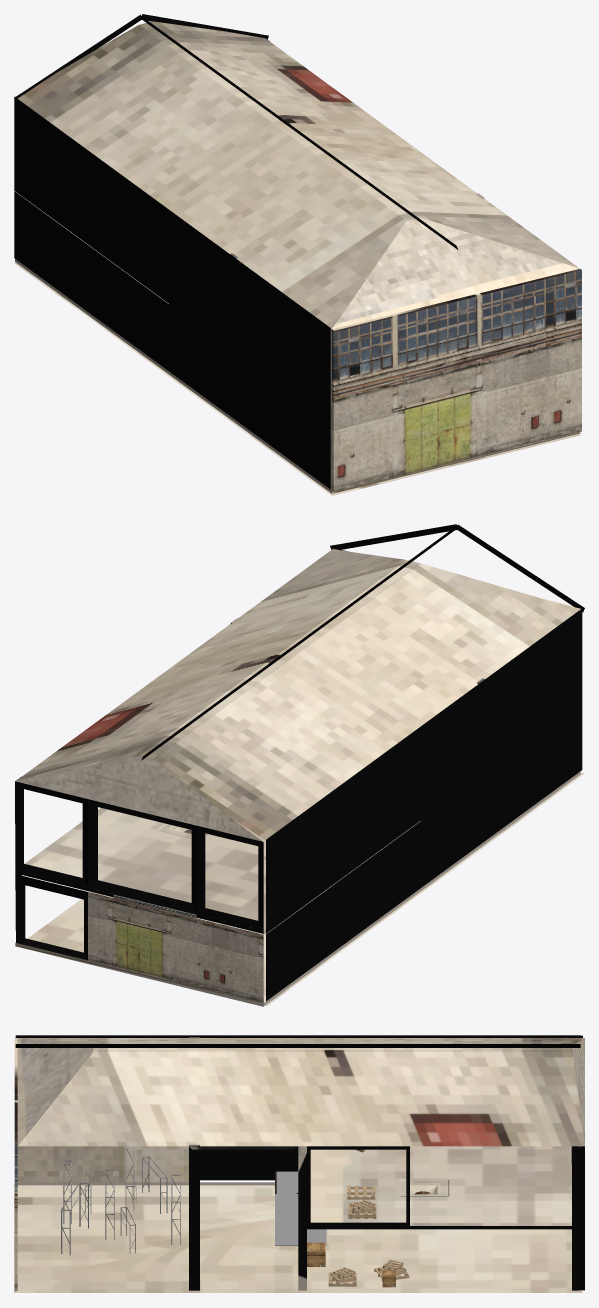
The model's file is warehouse1_02.glb.
The picture shows the model from 3 angles, top to bottom: view 1: azimuth 30°, elevation 25°; view 2: azimuth 150°, elevation 25°; view 3: azimuth 270°, elevation 25°; orthographic projection. The views are drawn at different scales.
Parts seen in each view (by area): view 1: Cube.029, Cube.014; view 2: Cube.029, Cube.014; view 3: Cube.029, Cube.014, Cube.016, Cube.009, Cube.023, Object_2.011, Cube.008.
Part boxes in pixels (x1,y1,x2,y2): Cube.029: (14, 14, 581, 493); Cube.014: (14, 191, 580, 495); Cube.029: (15, 524, 584, 1006); Cube.014: (27, 772, 584, 1005); Cube.029: (14, 1035, 584, 1290); Cube.014: (14, 1184, 582, 1292); Cube.016: (275, 1171, 326, 1245); Cube.009: (61, 1182, 88, 1255); Cube.023: (307, 1242, 325, 1266); Object_2.011: (347, 1186, 375, 1199); Cube.008: (142, 1156, 167, 1213).
Size of the model in its own units: 20.35 by 16.92 by 44.12.
Materials: 14 (7 with a texture image).
